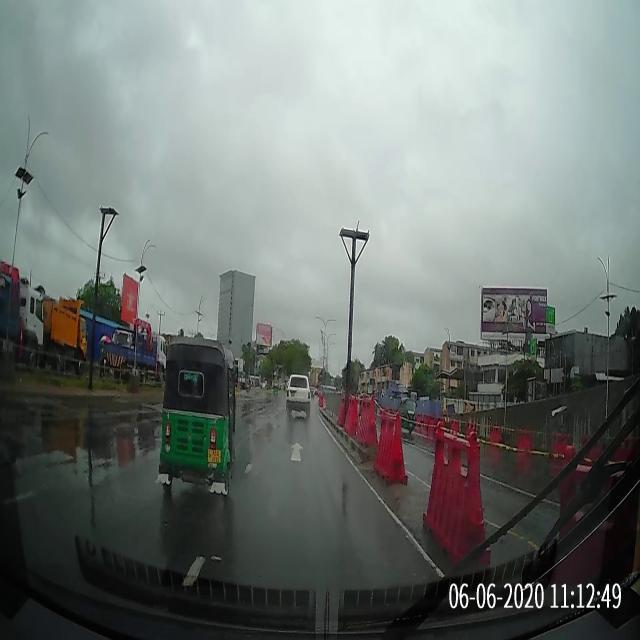forward: (235, 431, 375, 485)
